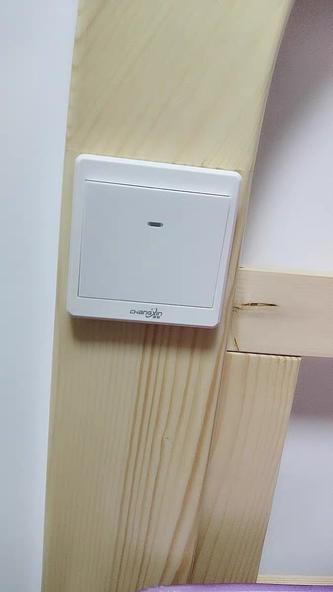switch: (76, 172, 232, 313)
